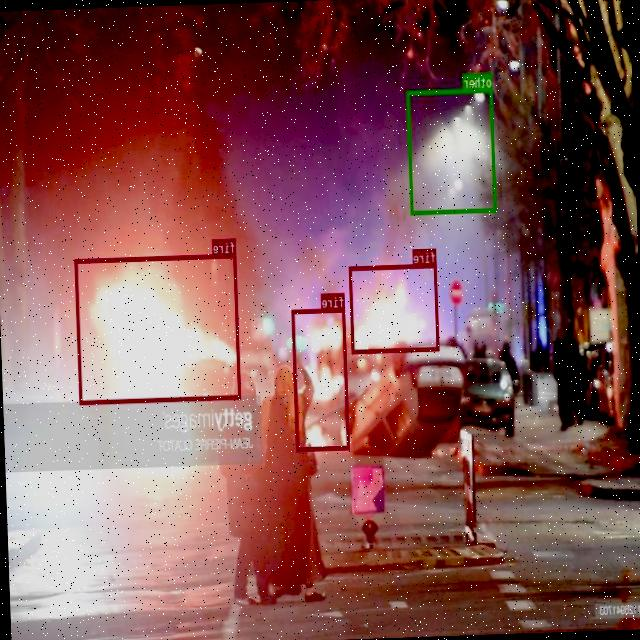fire: (74, 252, 240, 403), (349, 262, 440, 353), (292, 307, 349, 450)
